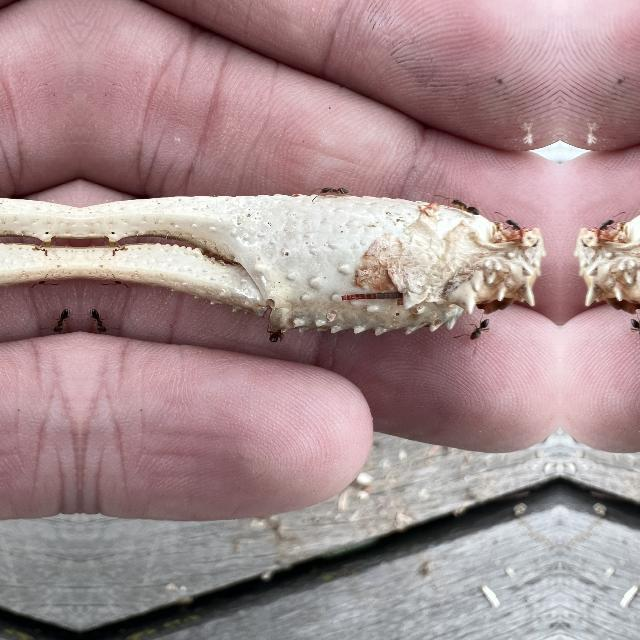Tapinoma: (442, 194, 492, 218), (467, 314, 491, 342), (308, 184, 352, 198), (89, 304, 107, 334), (53, 304, 71, 334), (506, 215, 524, 237), (596, 215, 614, 237), (268, 327, 286, 347), (628, 314, 640, 342), (628, 194, 640, 218)
